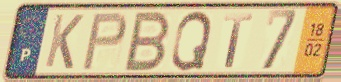7: (262, 7, 299, 74)
B: (121, 9, 173, 73)
K: (42, 12, 86, 72)
P: (79, 11, 129, 72)
Q: (169, 9, 215, 73)
T: (222, 11, 255, 69)
